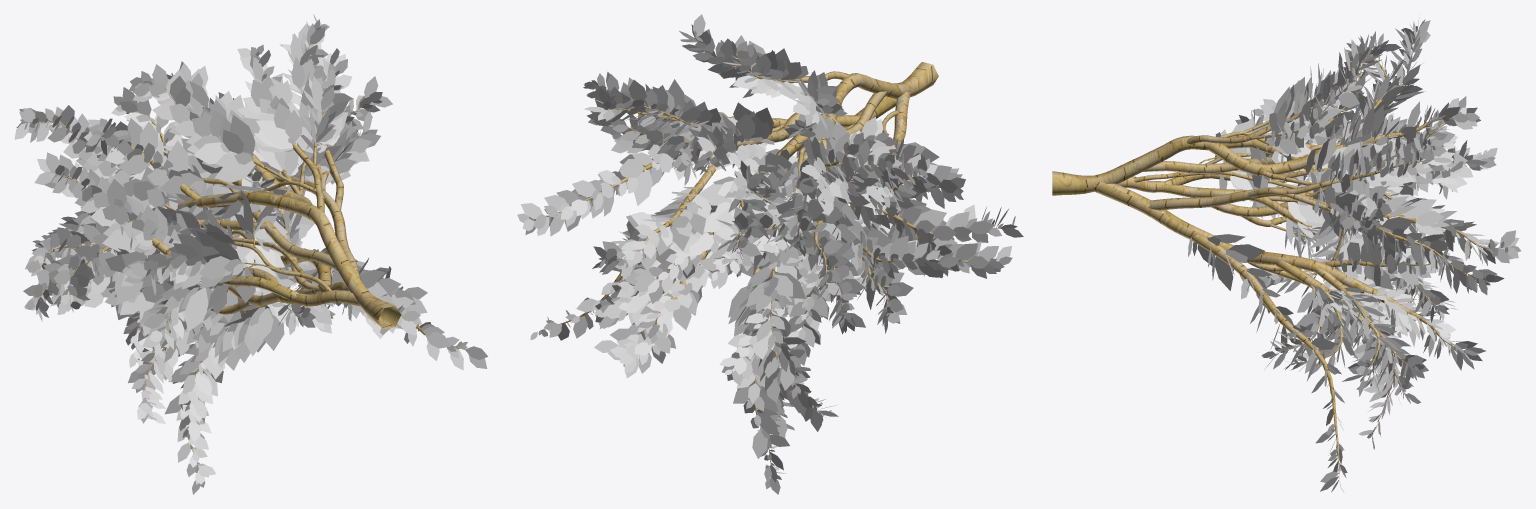
The model's file is ForestTree2.fbx.
The picture shows the model from 3 angles, left to right: view 1: azimuth 30°, elevation 25°; view 2: azimuth 150°, elevation 25°; view 3: azimuth 270°, elevation 25°; orthographic projection. The views are drawn at different scales.
Parts seen in each view (by area): view 1: leaves; view 2: leaves; view 3: leaves.
Boxes of the visible parts, x1,y1,x2,y2 form: leaves: [14, 14, 487, 494]; leaves: [517, 14, 1023, 494]; leaves: [1052, 18, 1520, 492].
Size of the model in its own units: 7.43 by 6.67 by 6.93.
2 materials, 1 textured.
